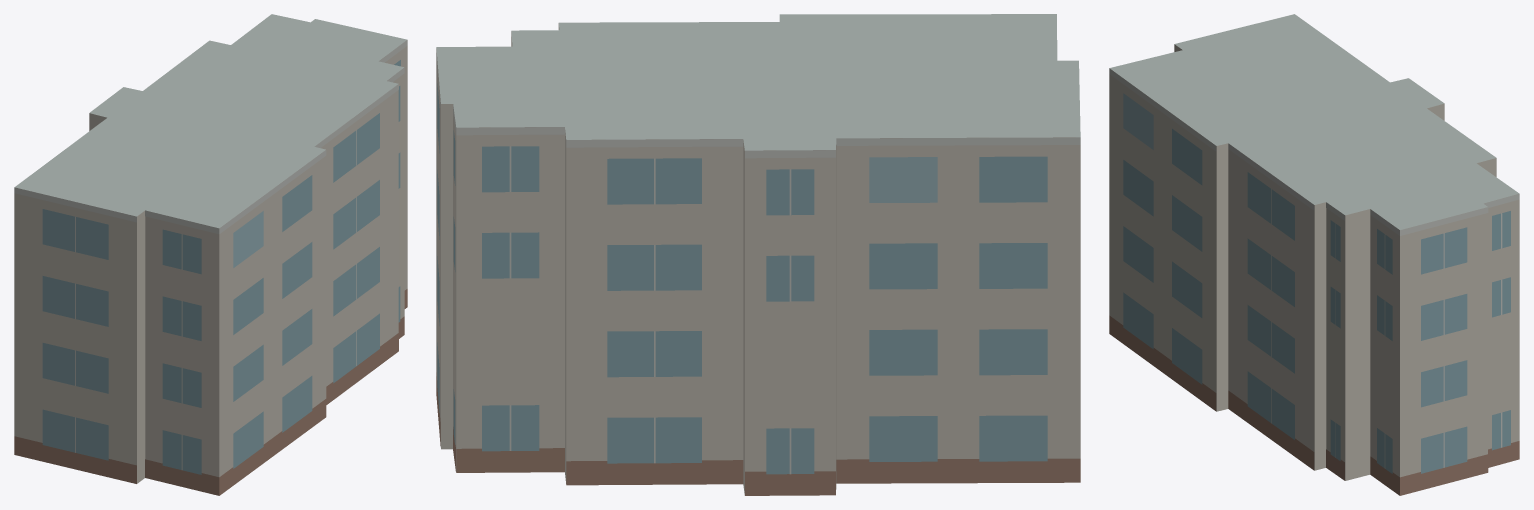
Rendered from survey-upis-32703278.glb.
The picture shows the model from 3 angles, left to right: view 1: azimuth 30°, elevation 25°; view 2: azimuth 150°, elevation 25°; view 3: azimuth 270°, elevation 25°; orthographic projection. The views are drawn at different scales.
Parts seen in each view (by area): view 1: survey-upis-32703278.tmp; view 2: survey-upis-32703278.tmp; view 3: survey-upis-32703278.tmp.
Part boxes in pixels (<box>): survey-upis-32703278.tmp: <box>14,14,407,495</box>; survey-upis-32703278.tmp: <box>436,14,1080,495</box>; survey-upis-32703278.tmp: <box>1109,14,1519,495</box>.
Size of the model in its own units: 19.21 by 11 by 15.4.
